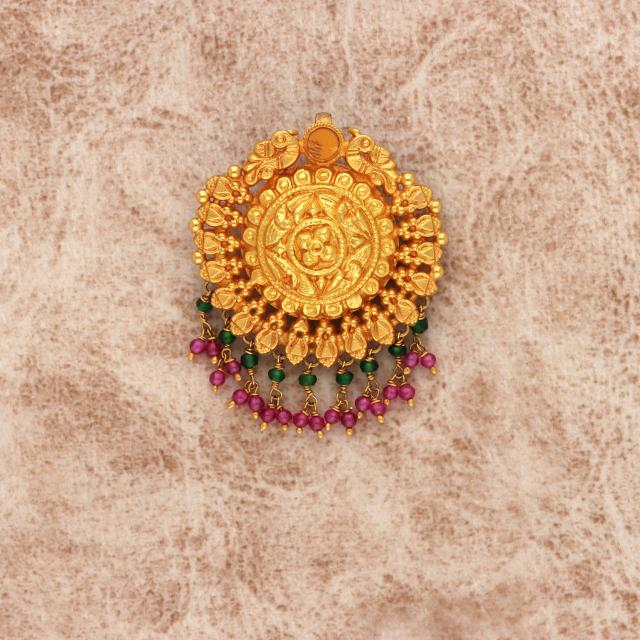missing gem: (307, 128, 339, 160)
